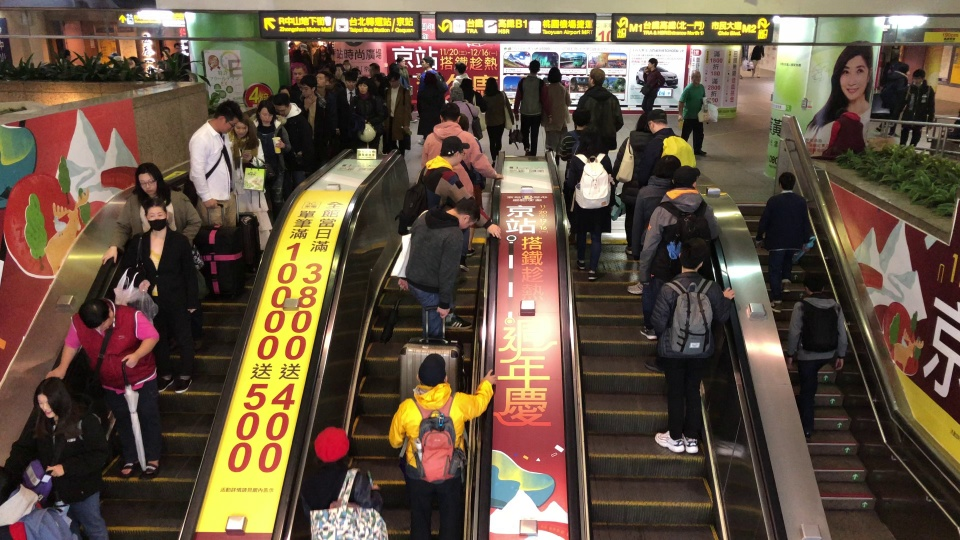person_head: (32, 376, 72, 420), (312, 426, 358, 463), (413, 352, 448, 387), (78, 298, 114, 331), (676, 236, 708, 272), (134, 162, 164, 196), (213, 100, 242, 133), (142, 197, 169, 229), (454, 198, 481, 230), (438, 135, 464, 166), (653, 154, 682, 179), (671, 165, 700, 187), (801, 272, 827, 294), (271, 92, 291, 116), (0, 466, 14, 500), (256, 99, 274, 125), (232, 111, 250, 137), (776, 170, 797, 192), (439, 101, 460, 122), (578, 129, 599, 150), (647, 109, 667, 131), (572, 107, 592, 129), (298, 74, 317, 96), (633, 111, 651, 133), (586, 67, 606, 86), (458, 112, 471, 132), (315, 70, 330, 87), (547, 66, 562, 83), (423, 71, 438, 86), (385, 71, 400, 86), (912, 68, 925, 85), (453, 61, 467, 76), (527, 59, 541, 74), (344, 73, 357, 89), (450, 86, 463, 101), (485, 77, 497, 93), (367, 63, 381, 76), (278, 85, 291, 99), (357, 77, 369, 92), (421, 56, 433, 69), (461, 78, 473, 90), (897, 63, 910, 74), (691, 69, 701, 83), (335, 62, 343, 77), (647, 57, 657, 69), (128, 57, 138, 68), (291, 49, 301, 60), (396, 56, 406, 66), (161, 47, 170, 57), (389, 63, 399, 72), (62, 49, 70, 60), (343, 60, 351, 69), (174, 43, 182, 51), (329, 78, 335, 88), (319, 44, 326, 52)
person_vbox: (38, 298, 164, 477), (393, 135, 502, 330), (387, 353, 497, 540), (648, 236, 736, 457), (2, 374, 108, 540), (638, 164, 720, 376), (125, 197, 200, 393), (134, 162, 206, 351), (627, 108, 697, 295), (397, 198, 481, 340), (784, 272, 848, 442), (629, 155, 682, 340), (300, 426, 385, 526), (754, 171, 811, 314), (566, 129, 616, 282), (184, 99, 237, 228), (419, 101, 505, 180), (227, 111, 273, 251), (611, 111, 652, 256), (0, 465, 79, 539), (559, 106, 600, 245), (574, 68, 625, 155), (252, 99, 291, 202), (270, 92, 312, 186), (513, 59, 552, 156), (541, 66, 572, 167), (416, 56, 450, 146), (482, 76, 514, 168), (898, 68, 935, 146), (677, 69, 708, 157), (874, 63, 910, 137), (384, 71, 411, 157), (351, 78, 383, 149), (416, 71, 445, 138), (298, 73, 325, 143), (449, 86, 480, 136), (396, 57, 418, 124), (640, 57, 666, 111), (337, 72, 357, 139), (314, 70, 335, 128), (329, 77, 347, 126), (461, 78, 486, 109), (290, 49, 306, 83), (749, 45, 765, 78), (452, 61, 471, 88), (170, 43, 188, 64), (314, 45, 331, 64)
